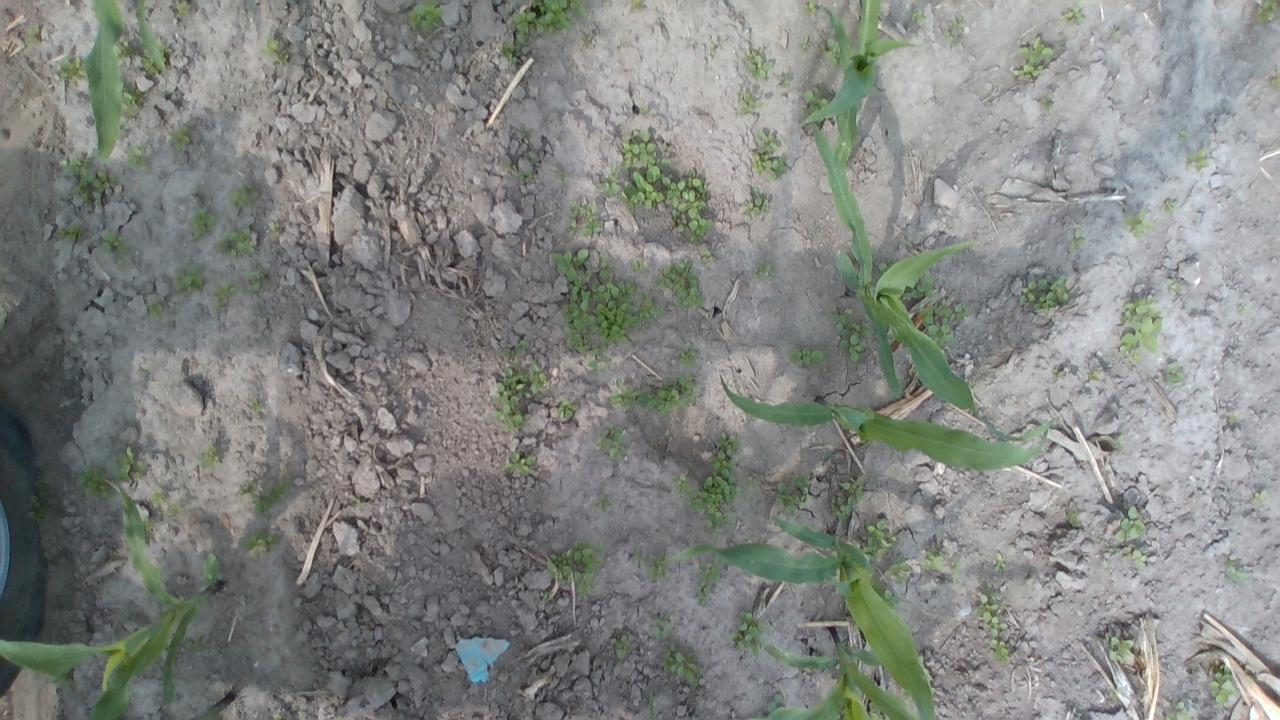Maize: (808, 121, 1060, 442), (0, 476, 227, 720), (670, 514, 936, 720), (718, 374, 1050, 474), (796, 0, 920, 168), (750, 621, 926, 720), (82, 0, 166, 178), (185, 694, 234, 720)
Weeds: (552, 249, 664, 354), (622, 166, 714, 244), (694, 433, 742, 534), (609, 374, 704, 419), (490, 361, 548, 434), (546, 540, 606, 598), (1118, 290, 1162, 364), (513, 0, 585, 44), (58, 157, 117, 207), (654, 258, 706, 309), (972, 594, 1011, 662), (918, 298, 967, 348), (1010, 37, 1054, 82), (1018, 274, 1071, 311), (751, 131, 788, 181), (619, 130, 670, 166), (248, 478, 296, 514), (730, 612, 766, 656), (663, 644, 699, 684), (567, 199, 603, 238), (75, 463, 112, 500), (864, 520, 898, 560), (213, 228, 256, 258), (139, 40, 172, 77), (697, 561, 723, 606), (1115, 505, 1146, 542), (244, 529, 282, 558), (116, 448, 148, 482), (408, 0, 443, 31), (1210, 664, 1236, 705), (1122, 209, 1158, 238), (175, 264, 204, 298), (883, 554, 913, 586), (211, 279, 238, 314), (187, 206, 216, 238), (1108, 546, 1146, 570), (600, 426, 627, 459), (774, 482, 800, 516), (1108, 636, 1137, 666), (228, 182, 260, 208), (124, 144, 152, 173), (742, 188, 771, 216), (504, 452, 536, 477), (800, 86, 828, 114), (840, 332, 866, 362), (58, 58, 90, 82), (196, 441, 222, 469), (943, 15, 965, 48), (52, 222, 84, 244), (746, 51, 772, 78), (102, 231, 130, 256), (789, 346, 824, 366), (598, 165, 620, 196), (1254, 0, 1280, 26), (1062, 0, 1088, 25), (262, 40, 290, 63), (244, 266, 270, 290), (830, 496, 854, 522), (648, 552, 670, 580), (1226, 556, 1248, 584), (794, 473, 811, 508), (168, 125, 190, 152), (826, 37, 846, 66), (1186, 148, 1210, 172), (840, 476, 865, 499), (1163, 701, 1193, 720), (651, 616, 674, 640), (498, 342, 528, 360), (922, 548, 944, 572), (739, 93, 763, 115), (554, 398, 579, 419), (26, 495, 45, 522), (1166, 361, 1187, 385), (1067, 227, 1086, 253), (676, 344, 700, 364), (145, 298, 166, 320), (610, 635, 630, 658), (672, 472, 692, 495), (122, 90, 142, 112), (500, 44, 520, 64), (150, 487, 167, 510), (916, 280, 936, 299), (1160, 197, 1178, 215), (587, 356, 613, 368), (752, 265, 774, 279), (26, 26, 42, 45), (116, 42, 134, 58), (832, 314, 848, 332), (596, 494, 612, 511), (517, 125, 535, 140), (524, 155, 544, 168), (174, 0, 190, 16), (1166, 277, 1182, 293), (267, 221, 284, 236), (1226, 409, 1241, 426), (629, 548, 643, 566), (994, 551, 1006, 571), (910, 9, 926, 24), (1038, 96, 1054, 110), (1271, 66, 1280, 90), (633, 258, 648, 272), (1253, 489, 1267, 504), (748, 475, 759, 493), (1114, 435, 1125, 453), (504, 160, 518, 174), (804, 0, 818, 14), (710, 39, 724, 53), (701, 251, 714, 266), (252, 397, 262, 416), (850, 324, 869, 334), (628, 0, 644, 11), (168, 505, 184, 516), (1069, 512, 1080, 528), (1088, 369, 1102, 381), (518, 170, 532, 182), (777, 76, 793, 86), (801, 36, 812, 50), (144, 518, 154, 532), (1110, 28, 1122, 39), (556, 172, 568, 182), (638, 106, 650, 116), (1238, 303, 1248, 314), (1054, 370, 1066, 378), (1179, 132, 1189, 140)
